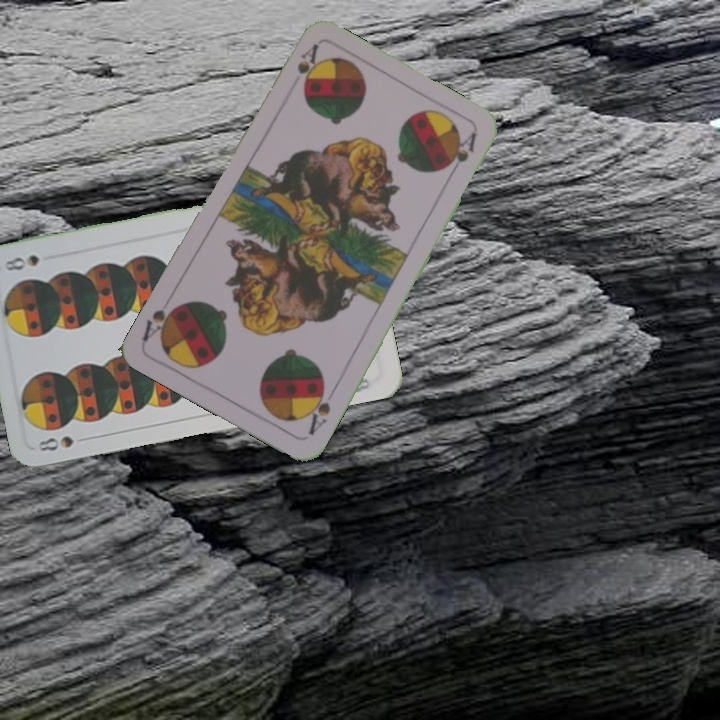S8: (34, 432, 76, 454)
SA: (302, 381, 334, 438), (293, 40, 322, 91)
